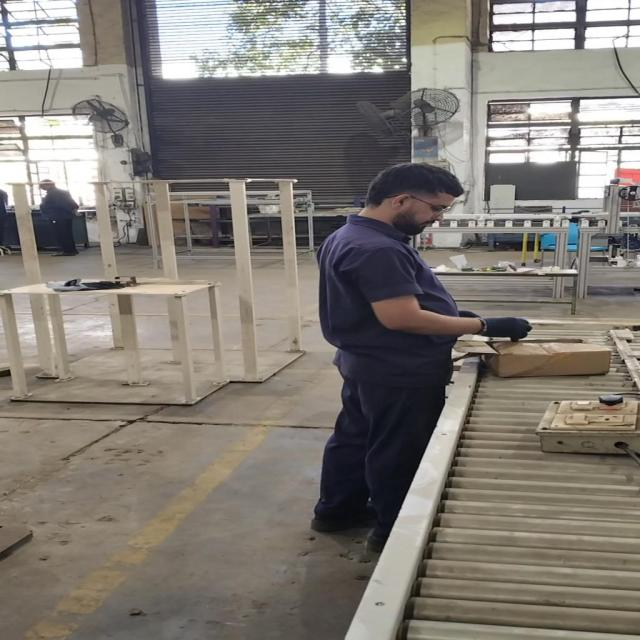Gloves-Detection: (458, 309, 523, 338)
